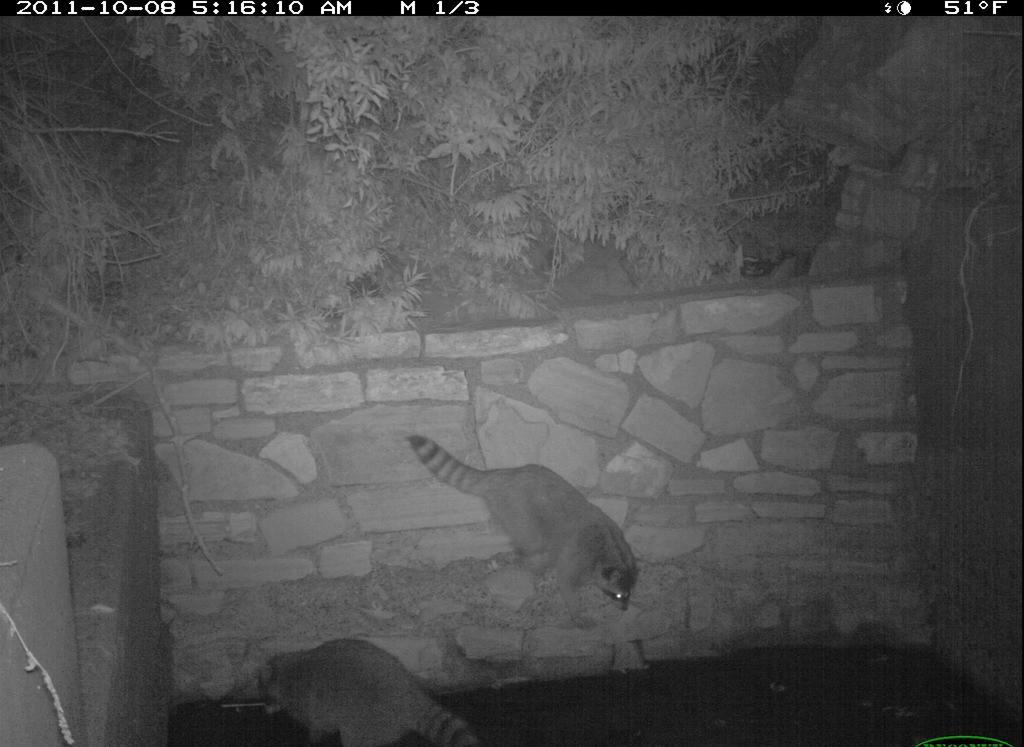raccoon: (399, 425, 661, 629), (244, 634, 495, 747)
